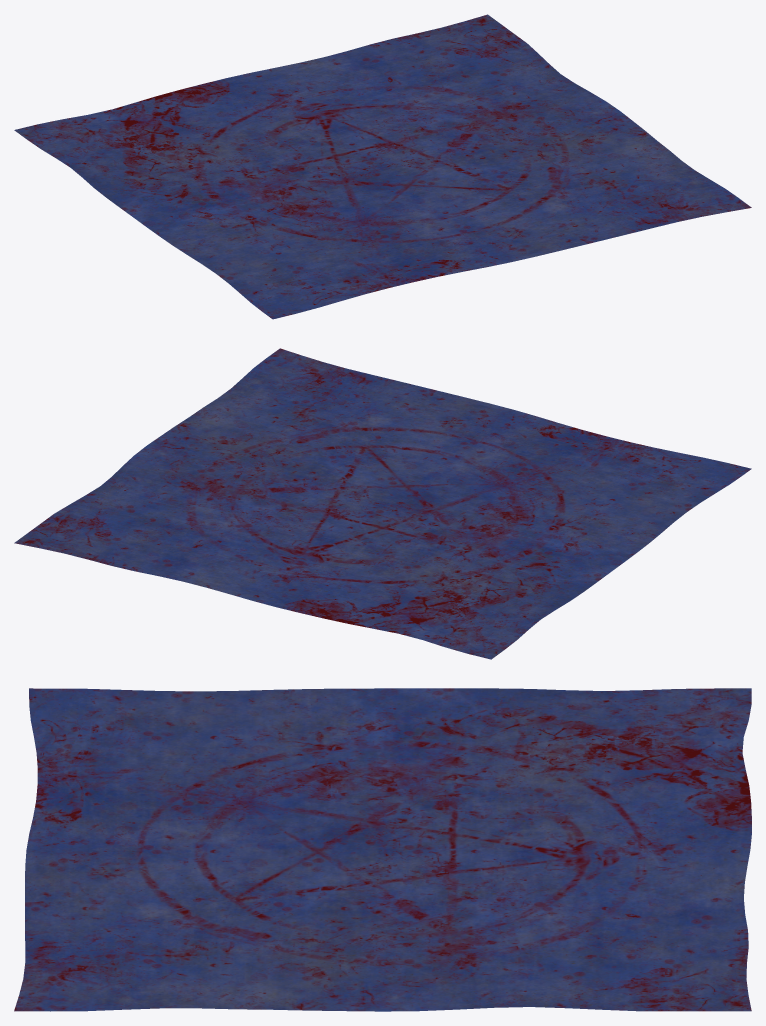
File: BloodyTarp.glb
3 views of the same model, one above another, from view 1: azimuth 30°, elevation 25°; view 2: azimuth 150°, elevation 25°; view 3: azimuth 270°, elevation 25° (orthographic). The views are drawn at different scales.
Parts seen in each view (by area): view 1: pPlane3; view 2: pPlane3; view 3: pPlane3.
Boxes of the visible parts, x1,y1,x2,y2 form: pPlane3: (14, 14, 751, 319); pPlane3: (14, 348, 751, 659); pPlane3: (14, 688, 751, 1011).
Size of the model in its own units: 509 by 2.15e-05 by 491.
Materials: 1 (1 with a texture image).
